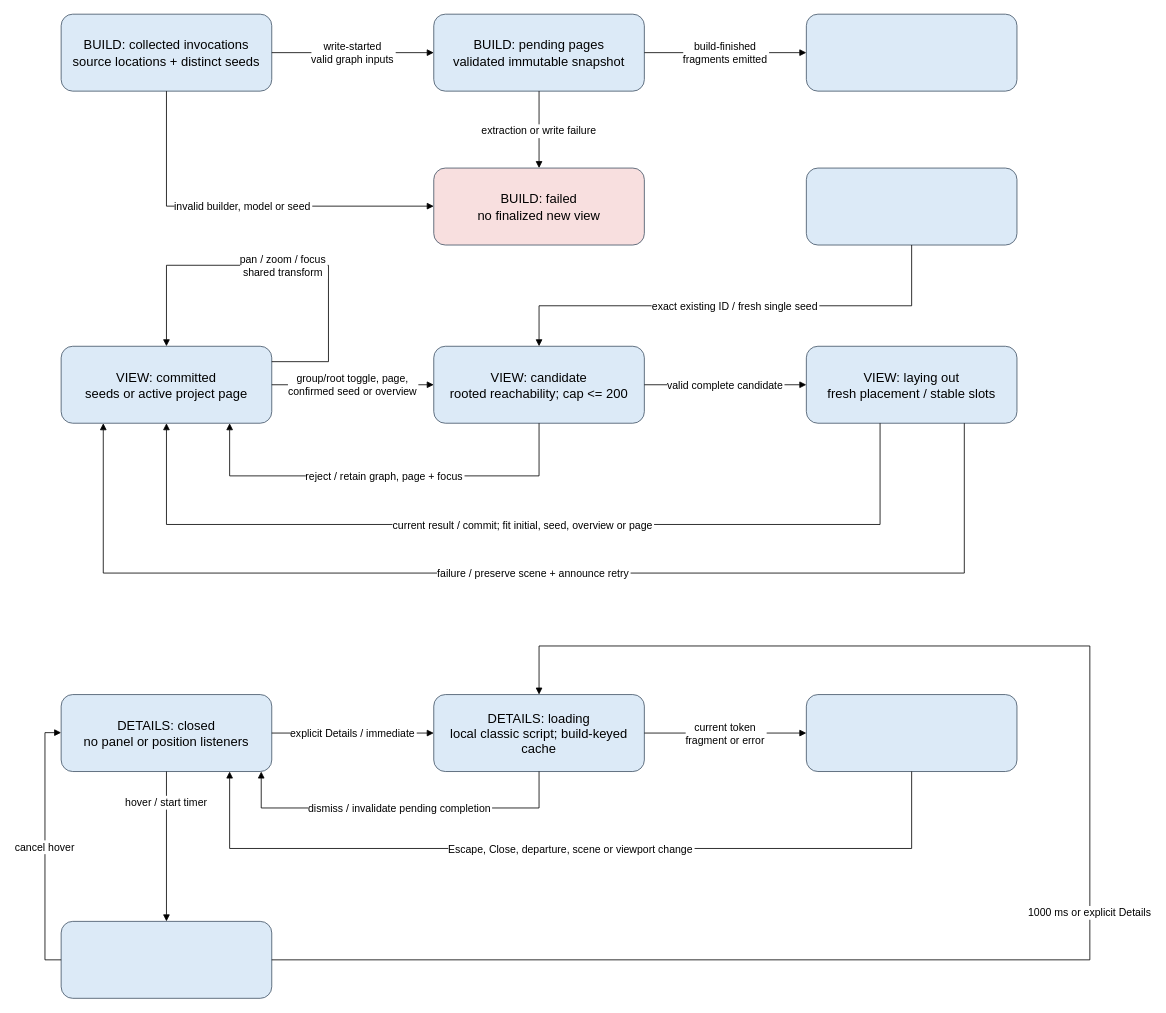
The diagram is 1166 pixels wide and 1013 high, and some of its shapes have lost their labels. Here are the shapes that lost their labels. From the top down, the box of each, then its label:
(806, 13, 1017, 91): BUILD: finalized bundle content-addressed graph + details
(806, 167, 1017, 245): SEED INPUT: editing / matches invalid ID retains committed view
(806, 694, 1017, 772): DETAILS: open or error static rich body / explicit failure
(60, 921, 272, 998): DETAILS: hover pending 1000 ms continuous node hover
